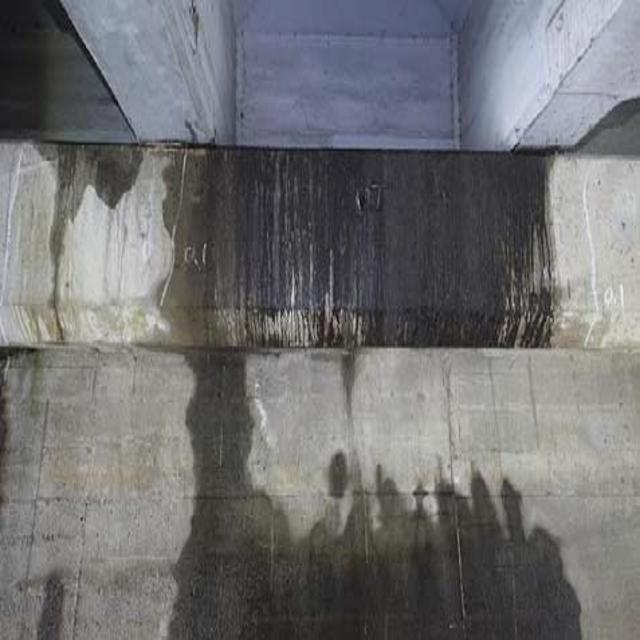leakage: (43, 147, 597, 636)
